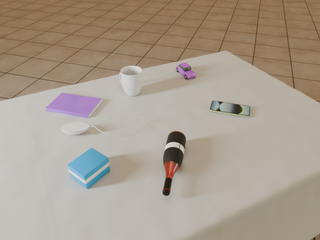book: (46, 93, 102, 118)
bottle: (163, 131, 186, 196)
box: (68, 148, 110, 189)
cup: (119, 66, 143, 96)
mouse: (61, 122, 89, 135)
phone: (210, 101, 250, 117)
toy_car: (176, 63, 196, 79)
